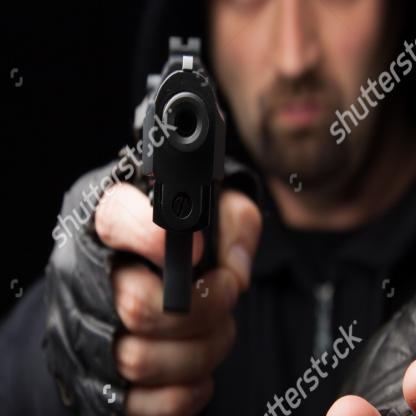gun: (122, 26, 252, 341)
